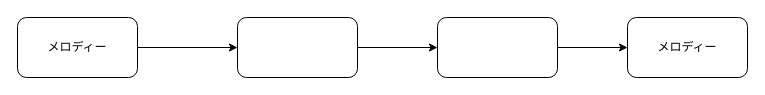
This 765x95 diagram has some shape labels left out. Each missing label, with the box of its shape:
アドリブソロ: (236, 16, 358, 78)
ドラムとの掛け合い: (436, 16, 558, 78)
